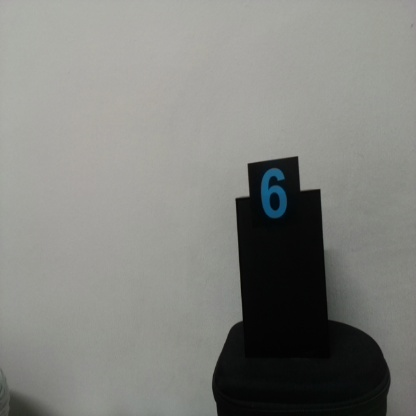id_6: (247, 164, 303, 237)
